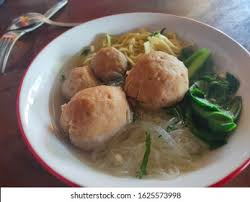bakso: (48, 26, 224, 157)
